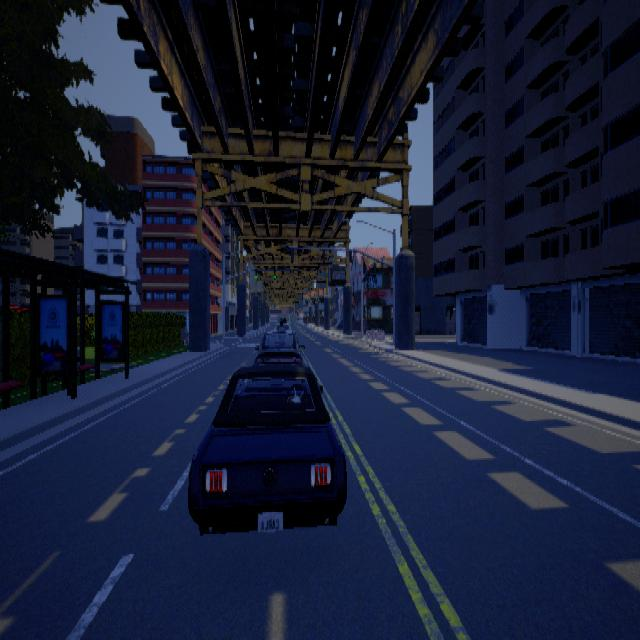green_light: (274, 268, 276, 278), (255, 269, 257, 278)
vehicle: (189, 317, 348, 534)
